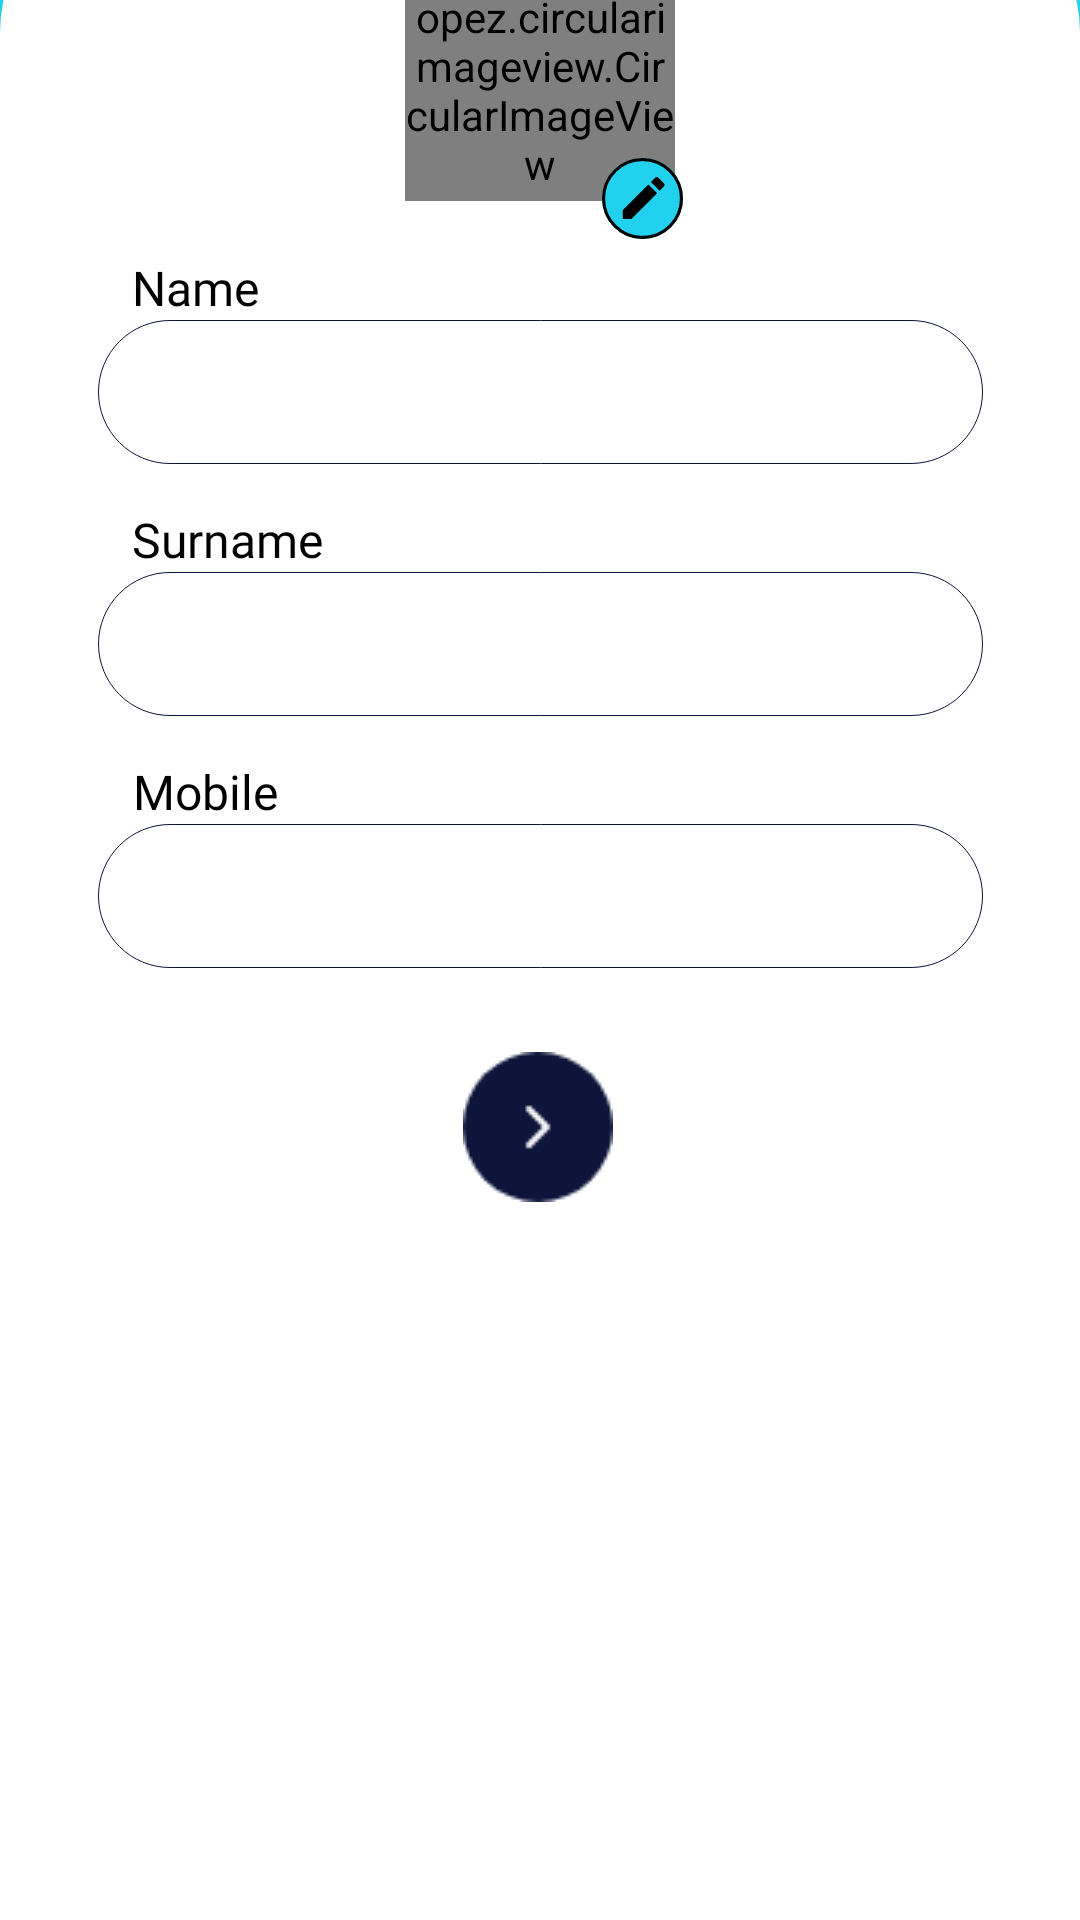

Where icons sit on this 1080 x 1920 app screen, as (x1, y1, x2, y2):
edit: (602, 158, 683, 239)
login but: (463, 1052, 613, 1202)
